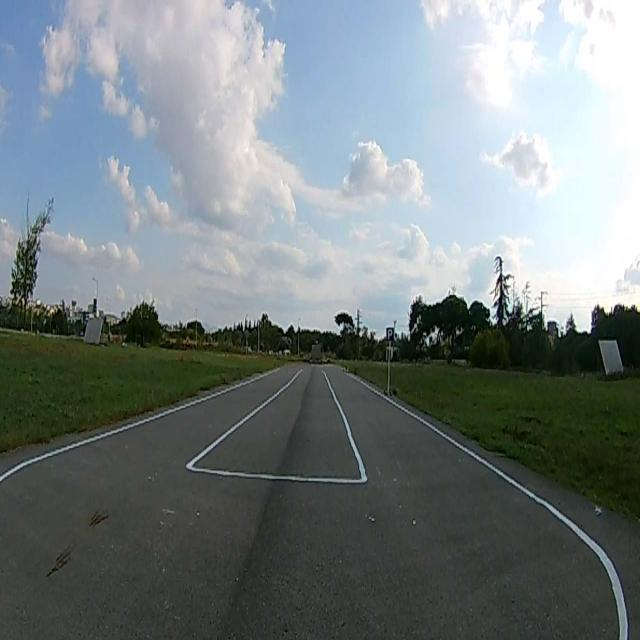park: (387, 326, 394, 343)
